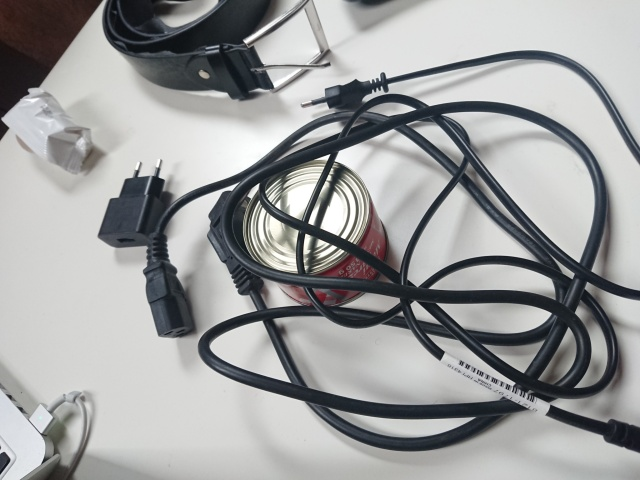Podravka Luncheon Meat 150g: (238, 157, 392, 311)
